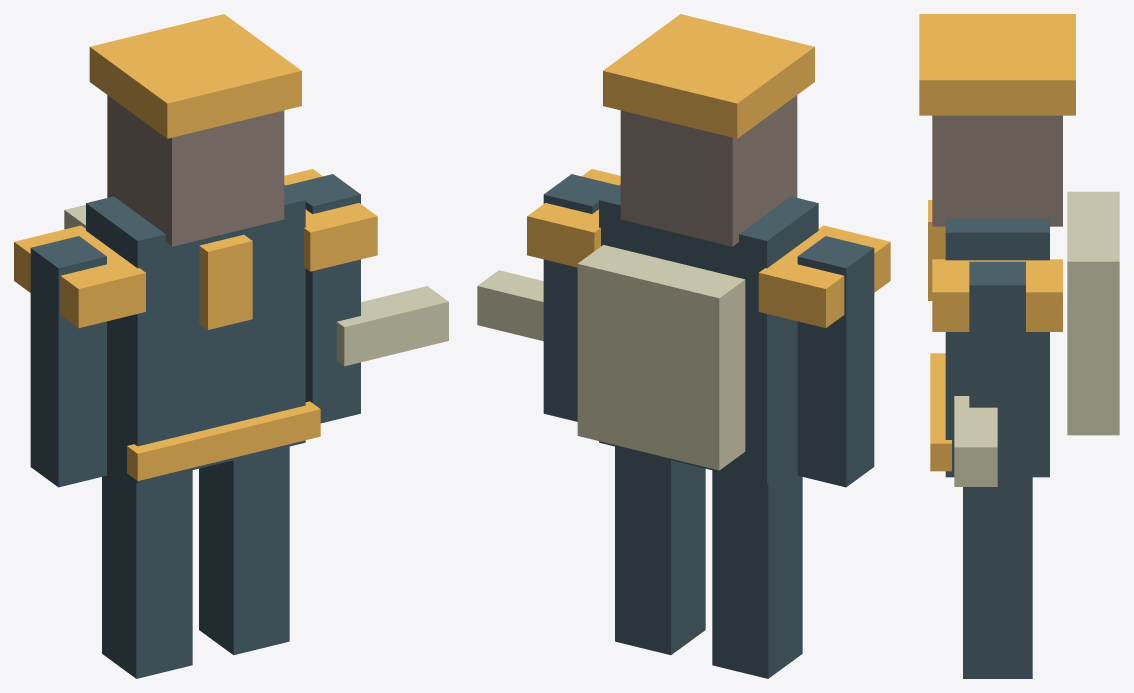
Rendered from 12_varren_nullborne_watcher_at_sedation.glb.
3 views of the same model, side by side, from view 1: azimuth 30°, elevation 25°; view 2: azimuth 150°, elevation 25°; view 3: azimuth 270°, elevation 25° (orthographic).
Parts seen in each view (by area): view 1: Varren Nullborne, Watcher at Sedation; view 2: Varren Nullborne, Watcher at Sedation; view 3: Varren Nullborne, Watcher at Sedation.
Part boxes in pixels (x1=…): Varren Nullborne, Watcher at Sedation: x1=14, y1=14, x2=448, y2=678; Varren Nullborne, Watcher at Sedation: x1=477, y1=14, x2=890, y2=678; Varren Nullborne, Watcher at Sedation: x1=919, y1=14, x2=1119, y2=678.
Size of the model in its own units: 1.1 by 1.61 by 0.4928.
